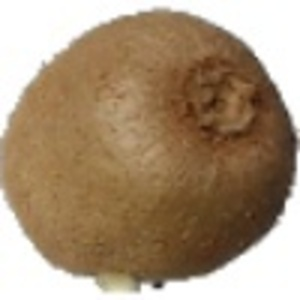kiwi: (1, 6, 300, 296)
